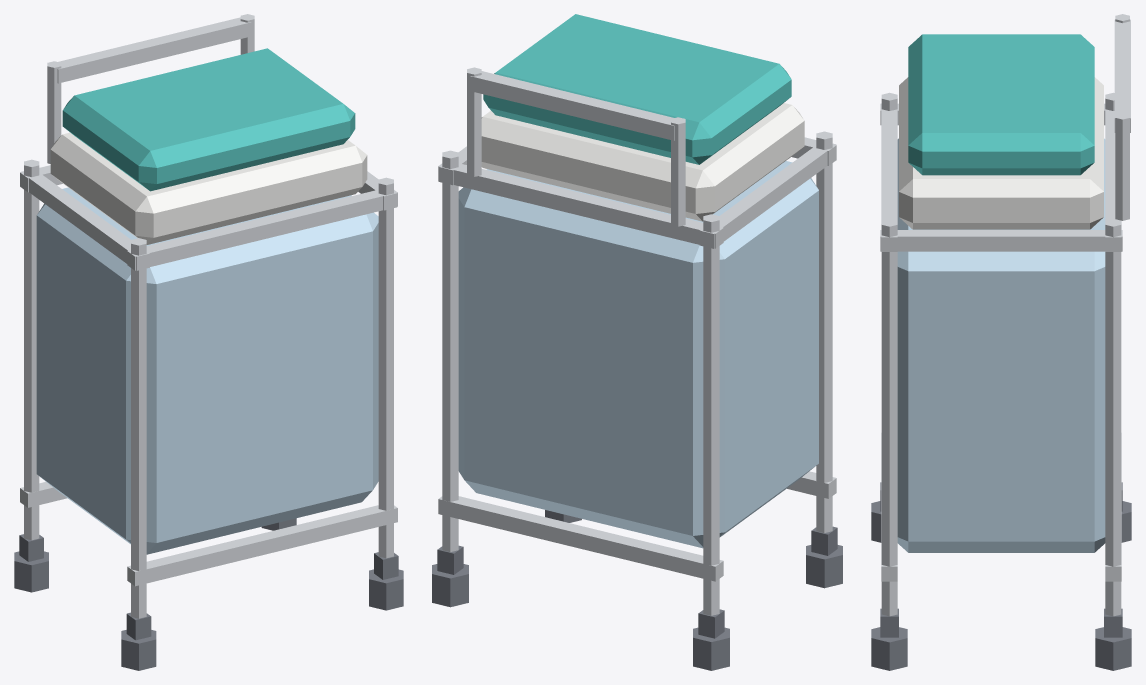
The model's file is medical-23646.glb.
3 renders of one model, left to right at view 1: azimuth 30°, elevation 25°; view 2: azimuth 150°, elevation 25°; view 3: azimuth 270°, elevation 25°, orthographic. The views are drawn at different scales.
Parts seen in each view (by area): view 1: linen-trolley; view 2: linen-trolley; view 3: linen-trolley.
Part boxes in pixels (x1,y1,x2,y2): linen-trolley: (14, 14, 403, 670); linen-trolley: (432, 14, 842, 670); linen-trolley: (871, 14, 1131, 670).
Bounding box in the file's own units: 0.73 × 1.26 × 0.5579.
